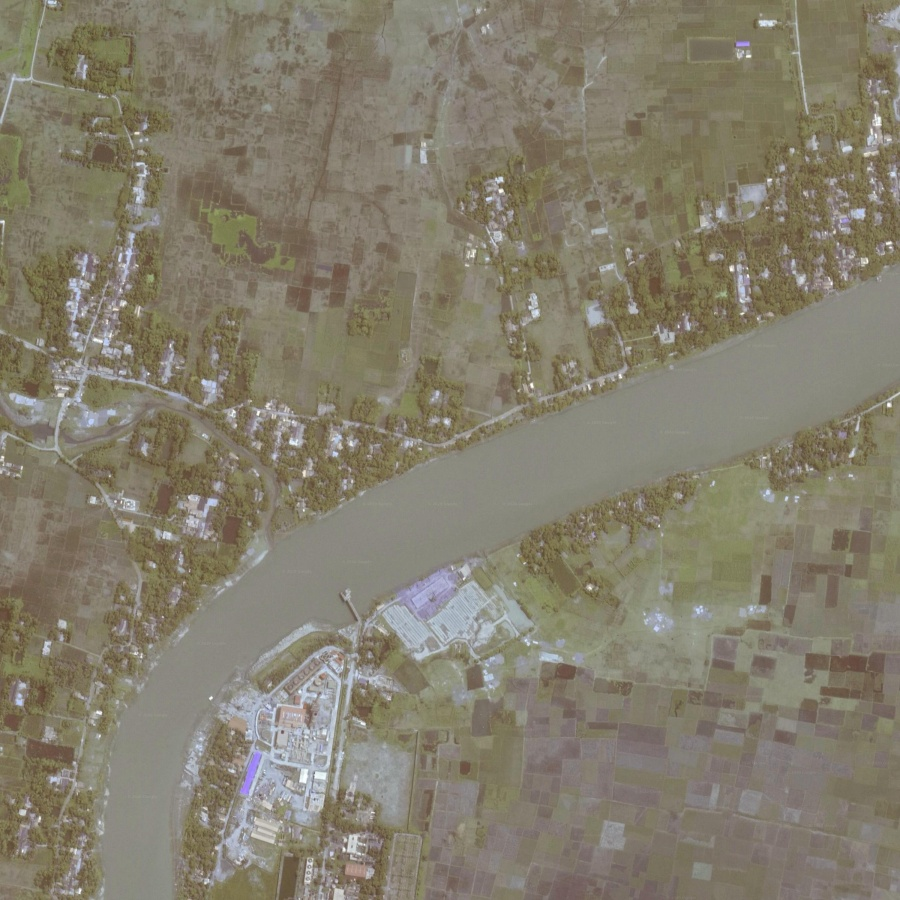PowerPlant: (267, 657, 338, 812)
